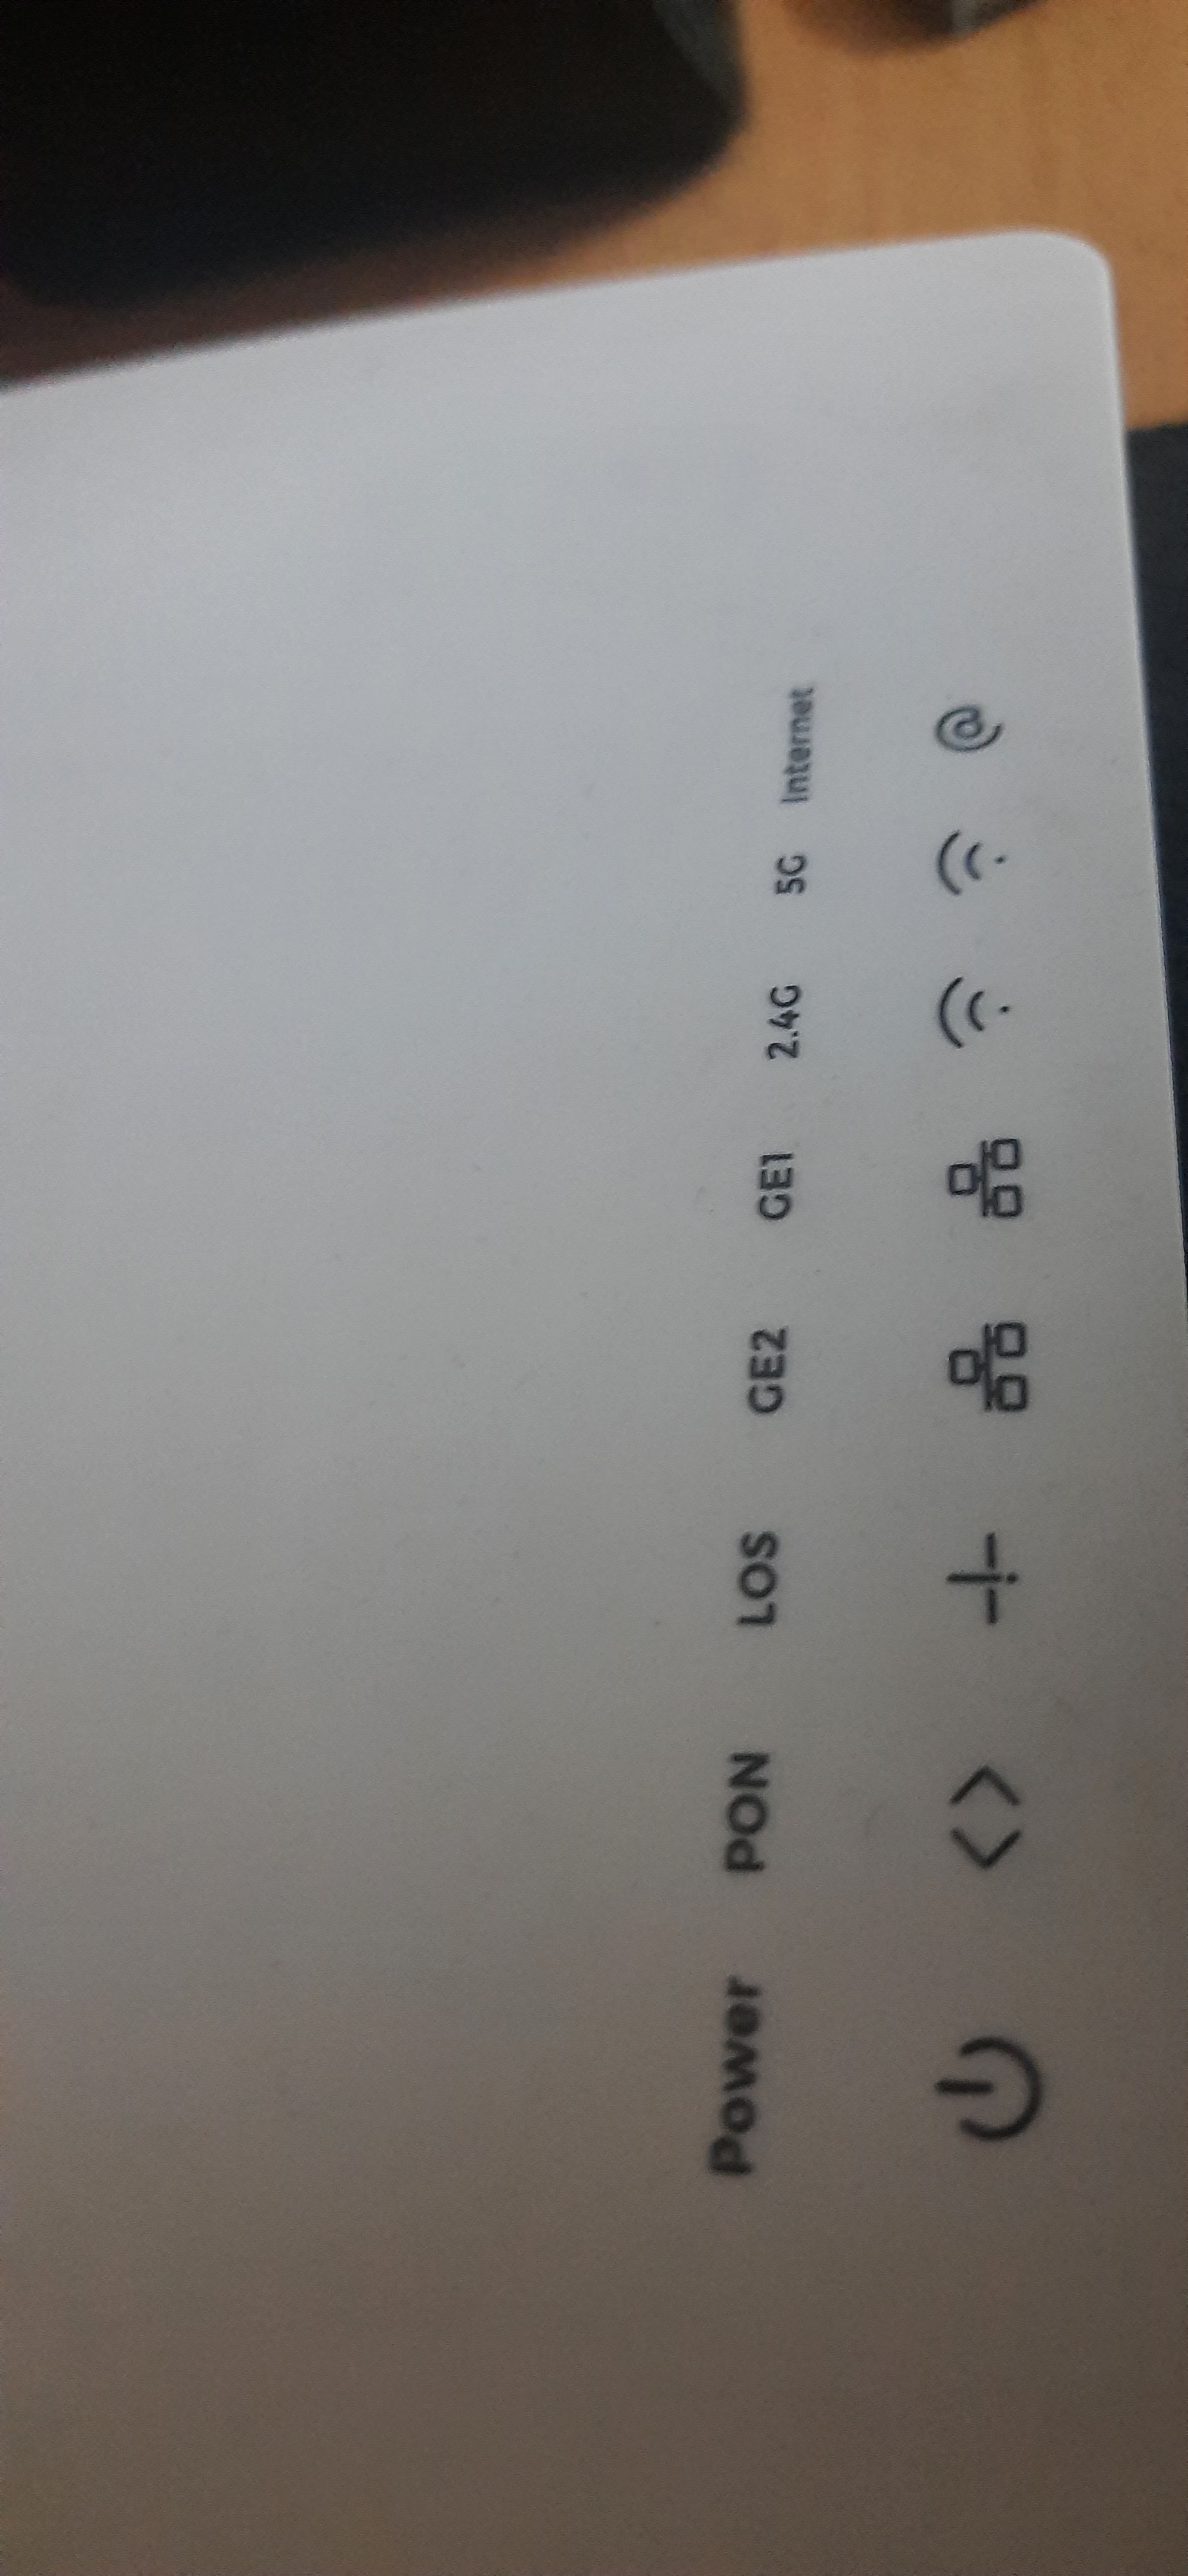WhiteWireIssue: (636, 557, 1119, 2400)
